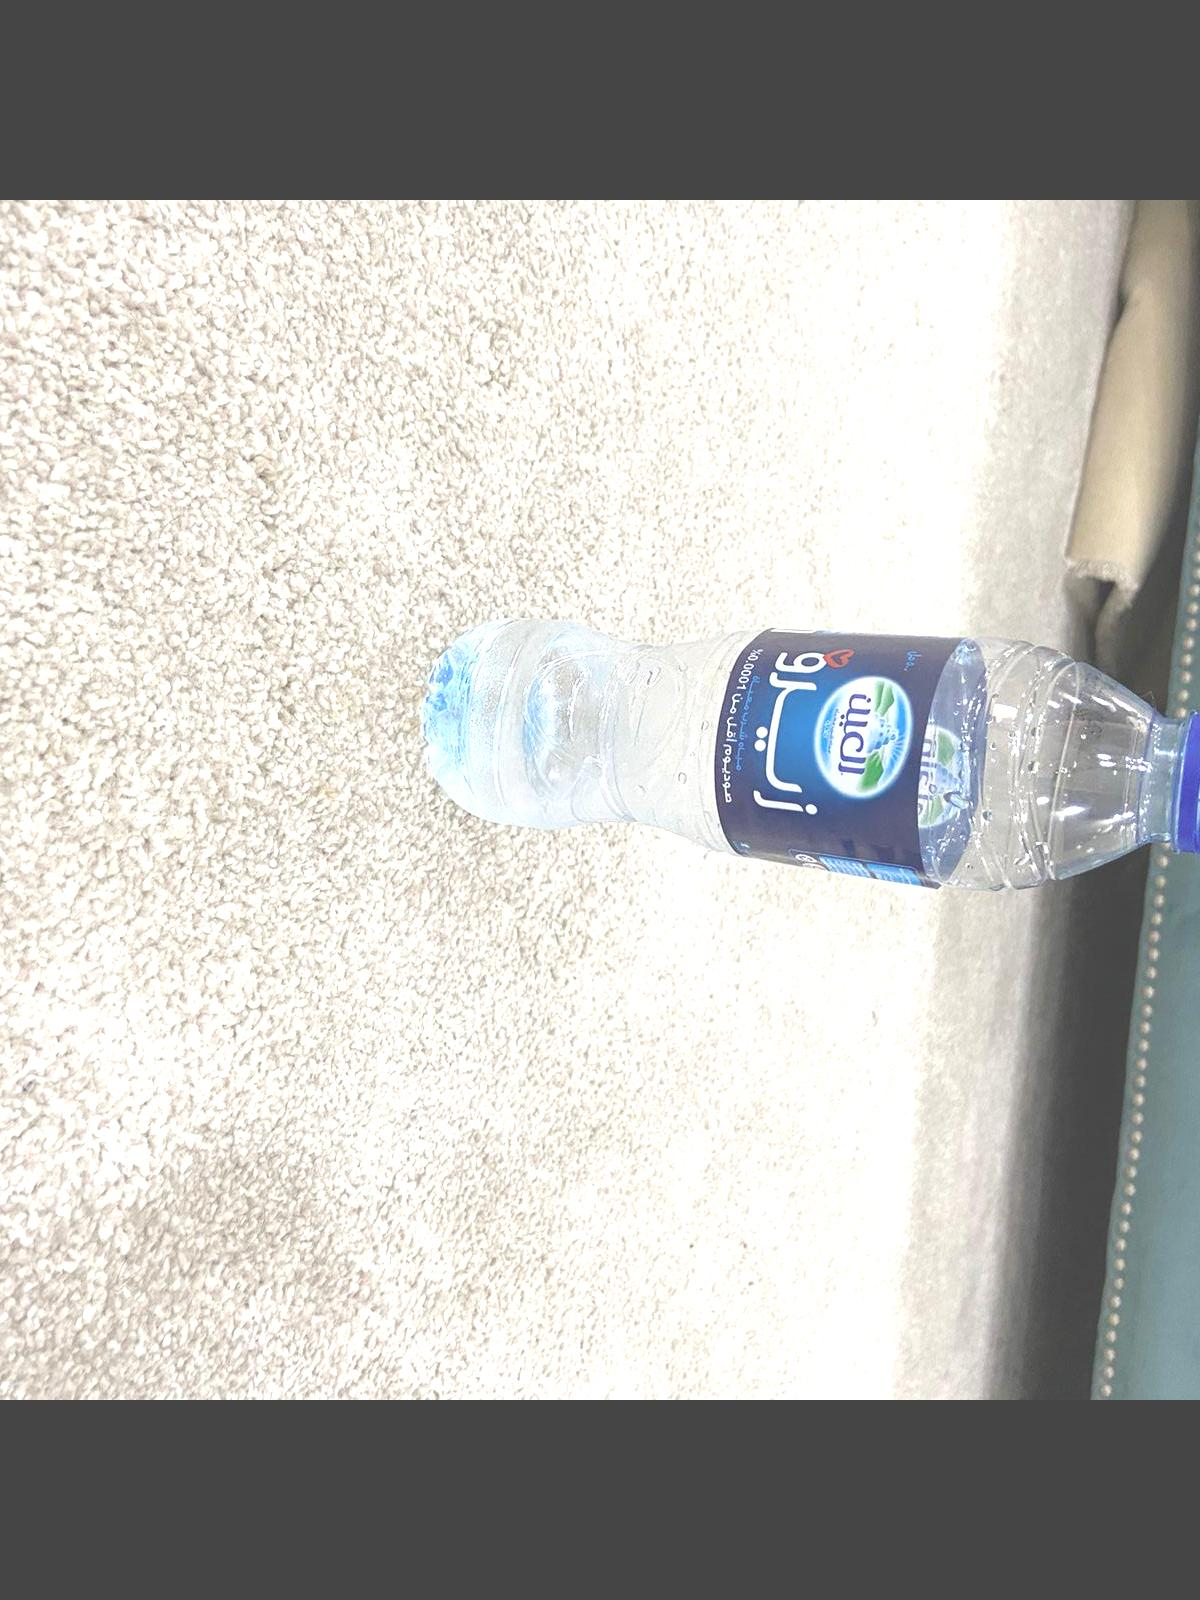bottle: (405, 616, 1200, 897)
